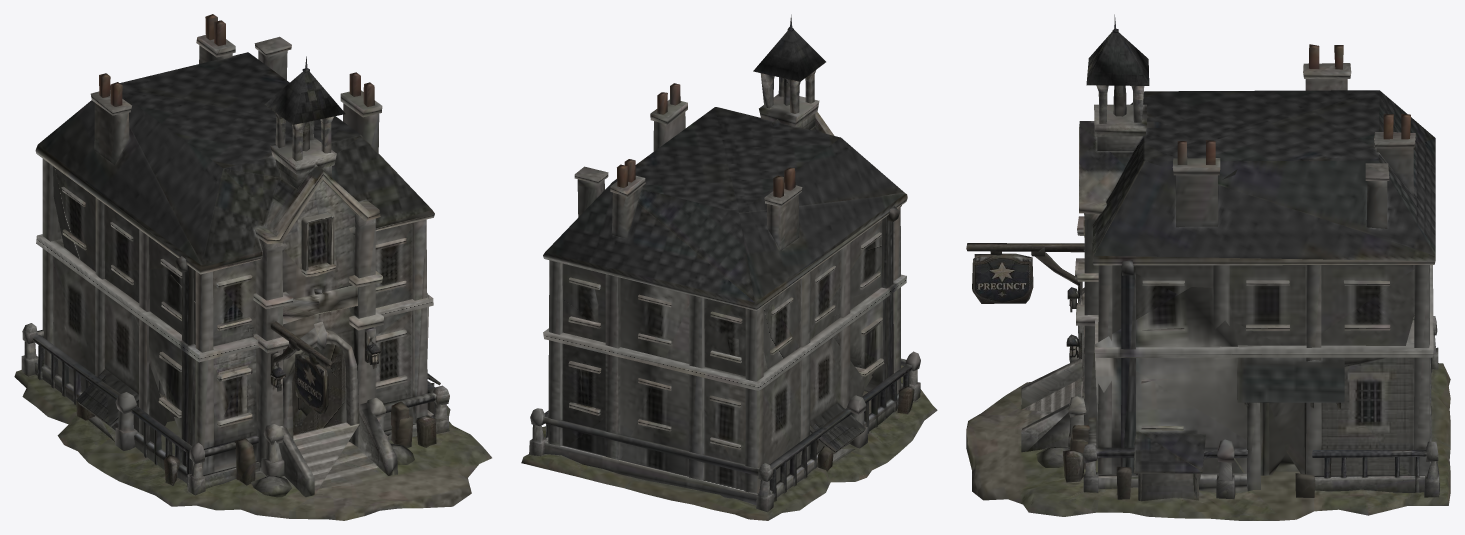
Rendered from police_precinct.glb.
3 renders of one model, left to right at view 1: azimuth 30°, elevation 25°; view 2: azimuth 150°, elevation 25°; view 3: azimuth 270°, elevation 25°, orthographic. The views are drawn at different scales.
Parts seen in each view (by area): view 1: PolicePrecinctMesh; view 2: PolicePrecinctMesh; view 3: PolicePrecinctMesh.
Part boxes in pixels (x1=…): PolicePrecinctMesh: x1=14, y1=14, x2=491, y2=520; PolicePrecinctMesh: x1=521, y1=14, x2=937, y2=520; PolicePrecinctMesh: x1=966, y1=14, x2=1450, y2=520.
Bounding box in the file's own units: 1.61 × 2 × 2.
1 material, 1 textured.
